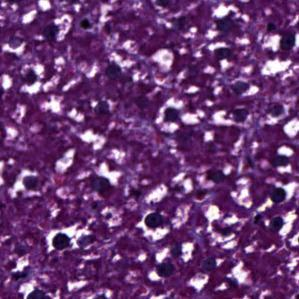inflammation: (97, 59, 128, 82), (48, 228, 72, 253), (144, 212, 171, 233), (152, 258, 176, 281)
